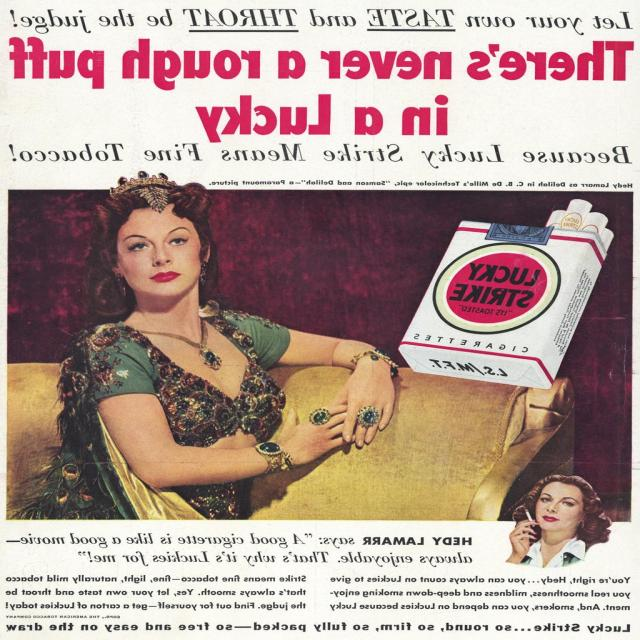smoking: (469, 467, 632, 562)
